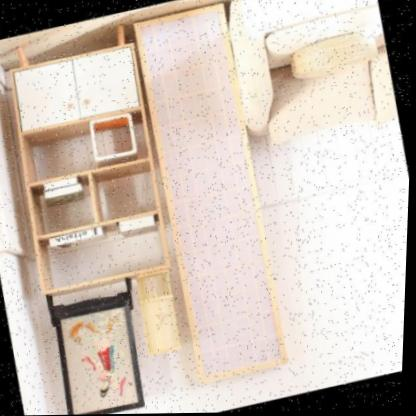Shelf: (0, 14, 186, 303)
